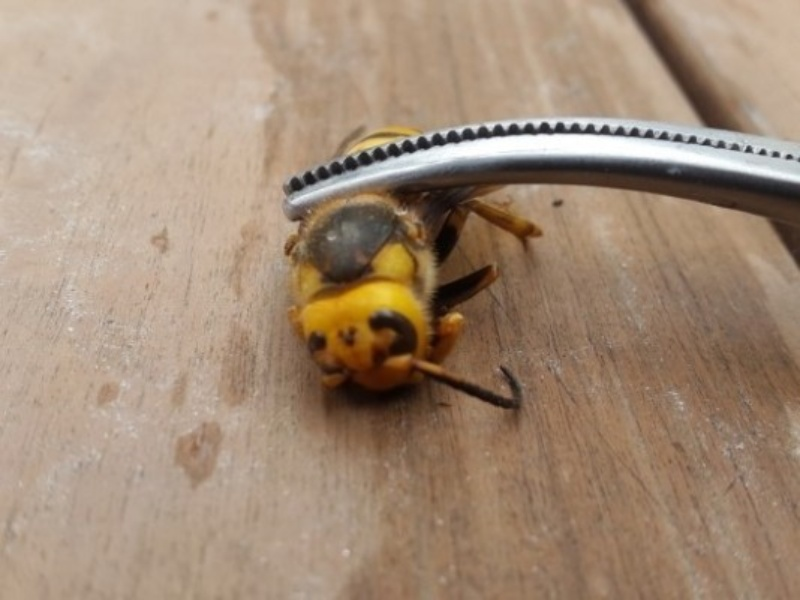asian_giant_hornet: (283, 116, 544, 417)
